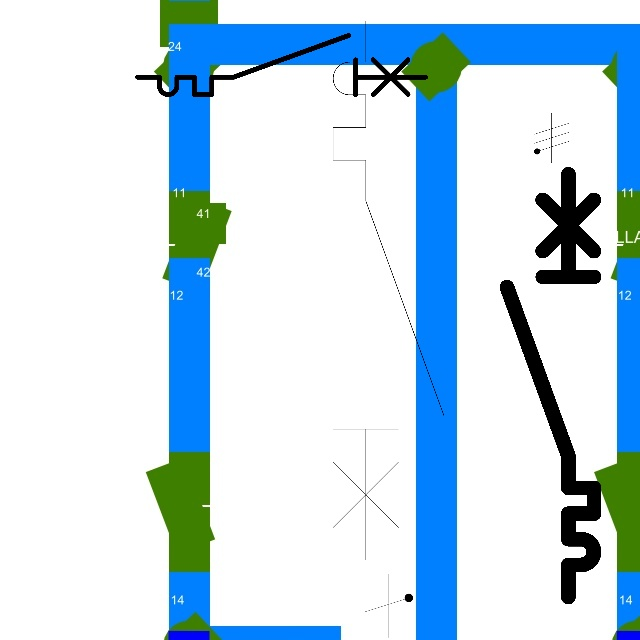interruptor_termomagnetico: (319, 7, 458, 574), (496, 163, 605, 608), (130, 28, 433, 102)
